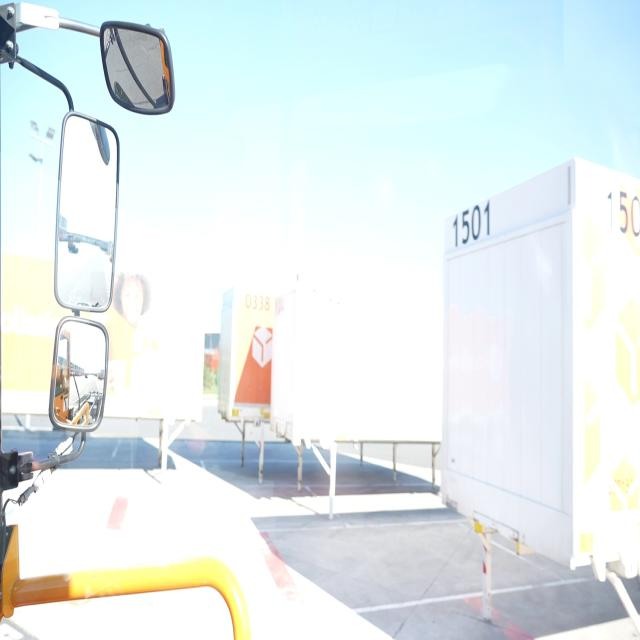Code: (450, 192, 495, 257), (240, 285, 271, 317)
